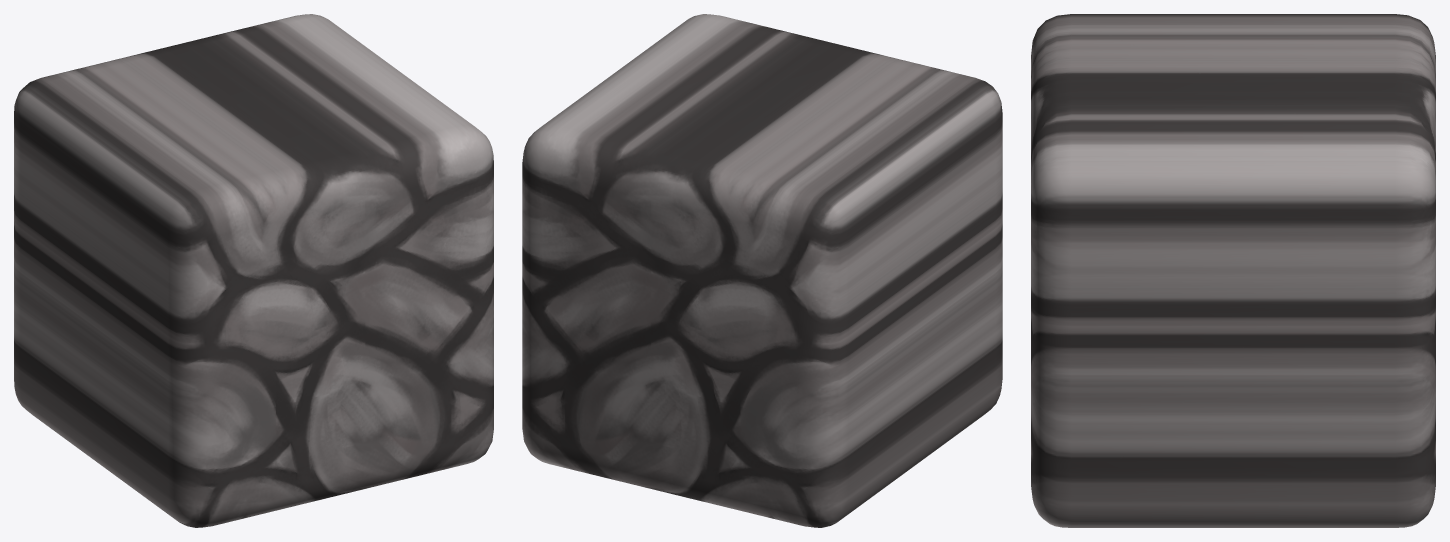
Rendered from single_block.FBX.
The picture shows the model from 3 angles, left to right: view 1: azimuth 30°, elevation 25°; view 2: azimuth 150°, elevation 25°; view 3: azimuth 270°, elevation 25°; orthographic projection. The views are drawn at different scales.
Visible parts, largest first — view 1: Box002; view 2: Box002; view 3: Box002.
Part boxes in pixels (box(x1,y1,x2,y2)): Box002: box(14, 14, 493, 527); Box002: box(522, 14, 1002, 527); Box002: box(1031, 14, 1435, 527).
Bounding box in the file's own units: 1 × 1 × 1.
